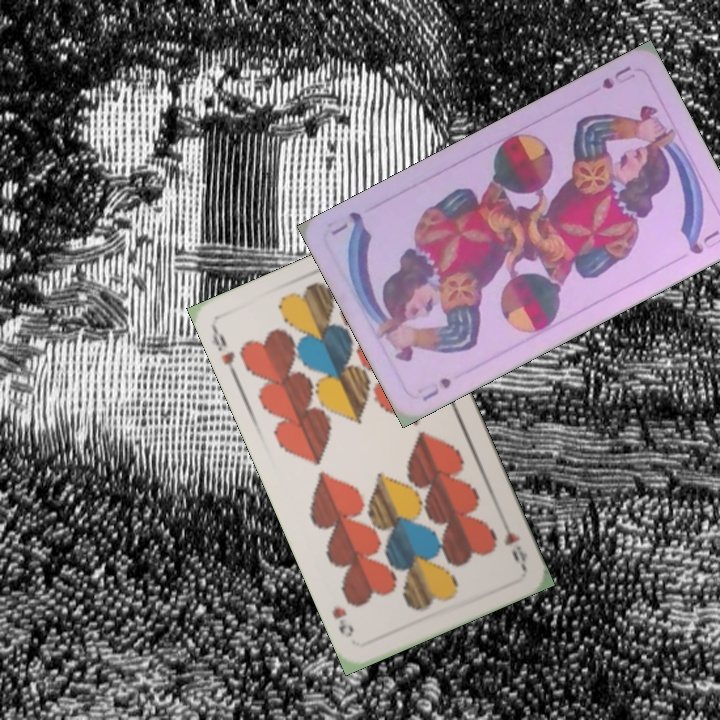H9: (497, 514, 530, 570), (208, 323, 240, 380)
SU: (418, 373, 454, 404), (598, 61, 634, 92)
